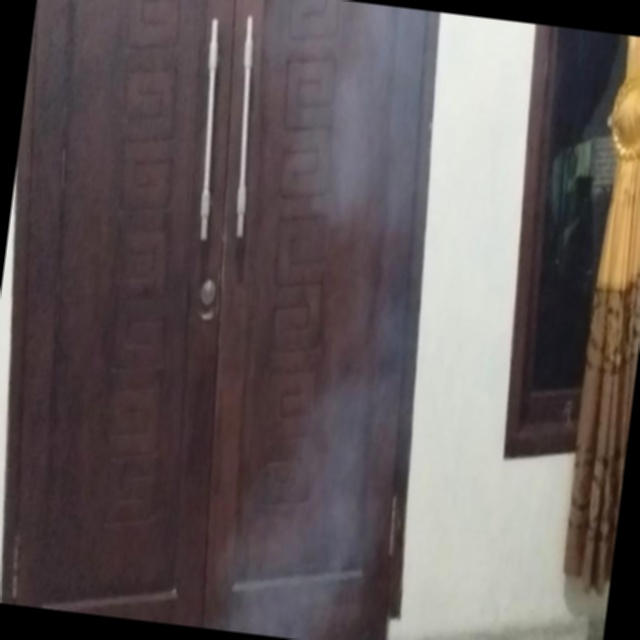smoke: (241, 28, 478, 640)
